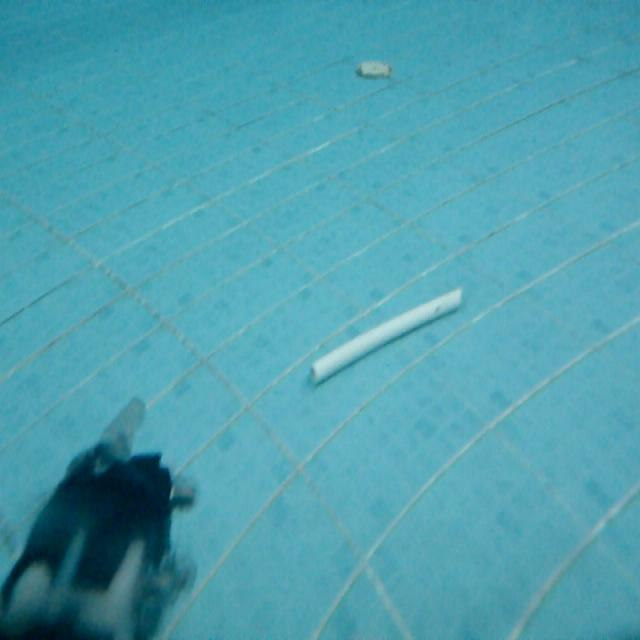Cube: (306, 281, 465, 388)
